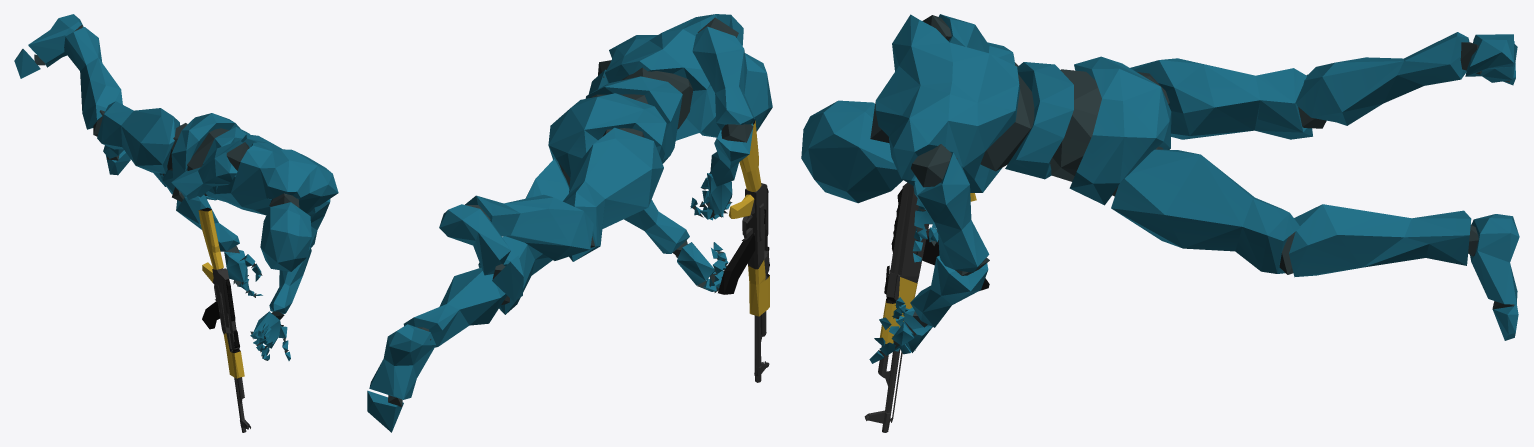
Rendered from EnemyDying_000015.obj.
3 views of the same model, side by side, from view 1: azimuth 30°, elevation 25°; view 2: azimuth 150°, elevation 25°; view 3: azimuth 270°, elevation 25° (orthographic). The views are drawn at different scales.
Parts seen in each view (by area): view 1: Alpha_Surface, AK-47_Cube, Alpha_Joints; view 2: Alpha_Surface, AK-47_Cube, Alpha_Joints; view 3: Alpha_Surface, Alpha_Joints, AK-47_Cube.
Boxes of the visible parts, bbox=[...] form: Alpha_Surface: bbox=[14, 14, 338, 360]; AK-47_Cube: bbox=[198, 207, 250, 432]; Alpha_Joints: bbox=[34, 25, 299, 360]; Alpha_Surface: bbox=[367, 14, 772, 432]; AK-47_Cube: bbox=[718, 119, 769, 382]; Alpha_Joints: bbox=[388, 17, 753, 407]; Alpha_Surface: bbox=[801, 14, 1519, 363]; Alpha_Joints: bbox=[870, 15, 1514, 353]; AK-47_Cube: bbox=[864, 182, 989, 432].
Bounding box in the file's own units: 115 × 215 × 325.
